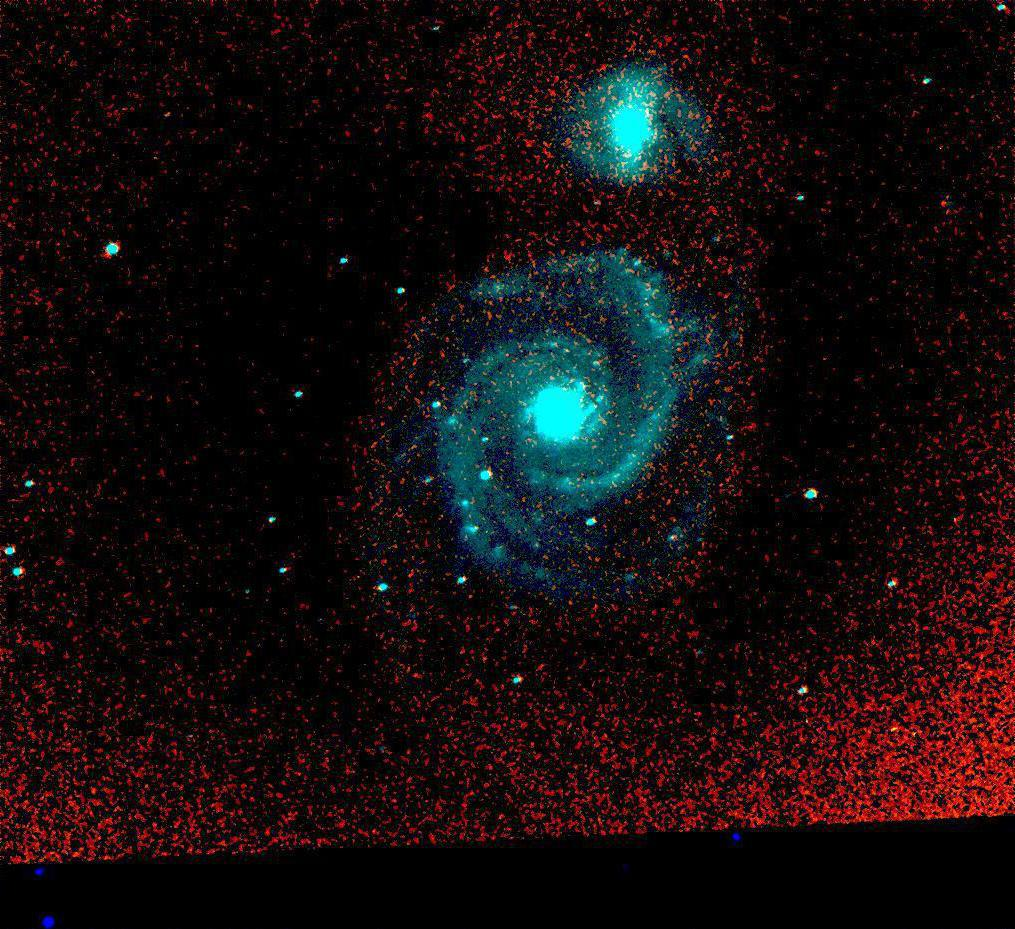star: (548, 371, 578, 401)
